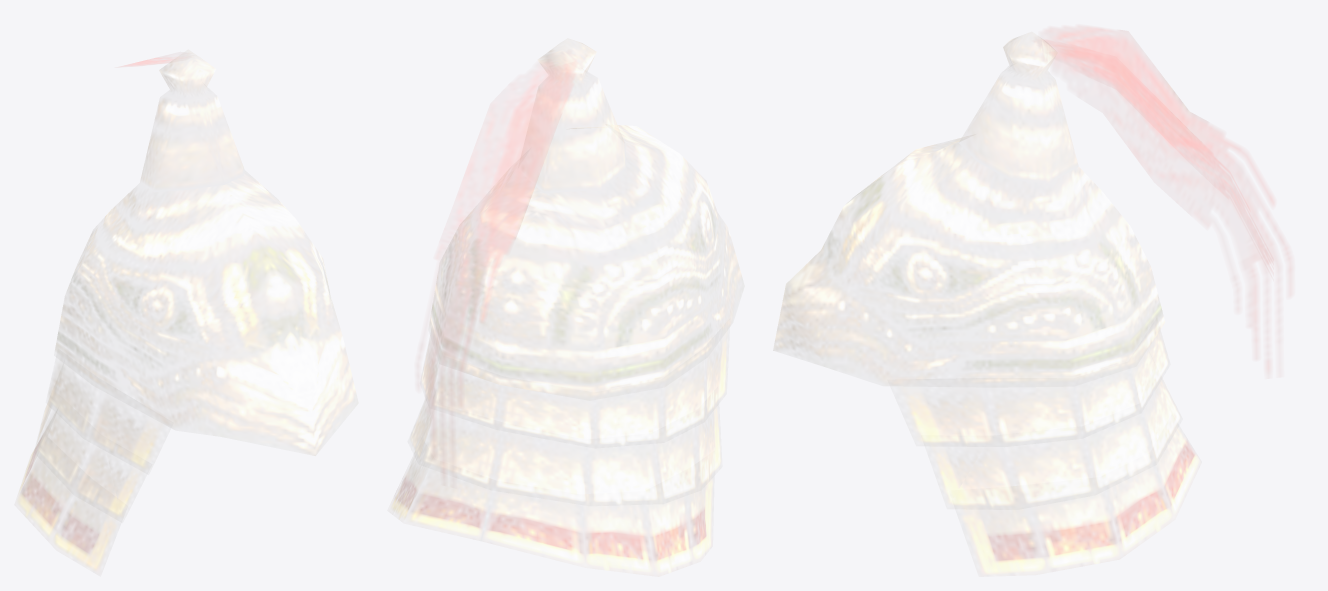
File: heavy_03_ha.glb
3 renders of one model, left to right at view 1: azimuth 30°, elevation 25°; view 2: azimuth 150°, elevation 25°; view 3: azimuth 270°, elevation 25°, orthographic. The views are drawn at different scales.
Parts seen in each view (by area): view 1: heavy_03_ha; view 2: heavy_03_ha; view 3: heavy_03_ha.
Part boxes in pixels (bbox=[...]): heavy_03_ha: bbox=[16, 50, 358, 572]; heavy_03_ha: bbox=[390, 38, 744, 576]; heavy_03_ha: bbox=[773, 26, 1292, 575].
Size of the model in its own units: 0.195 by 0.3546 by 0.3431.
1 material, 1 textured.
